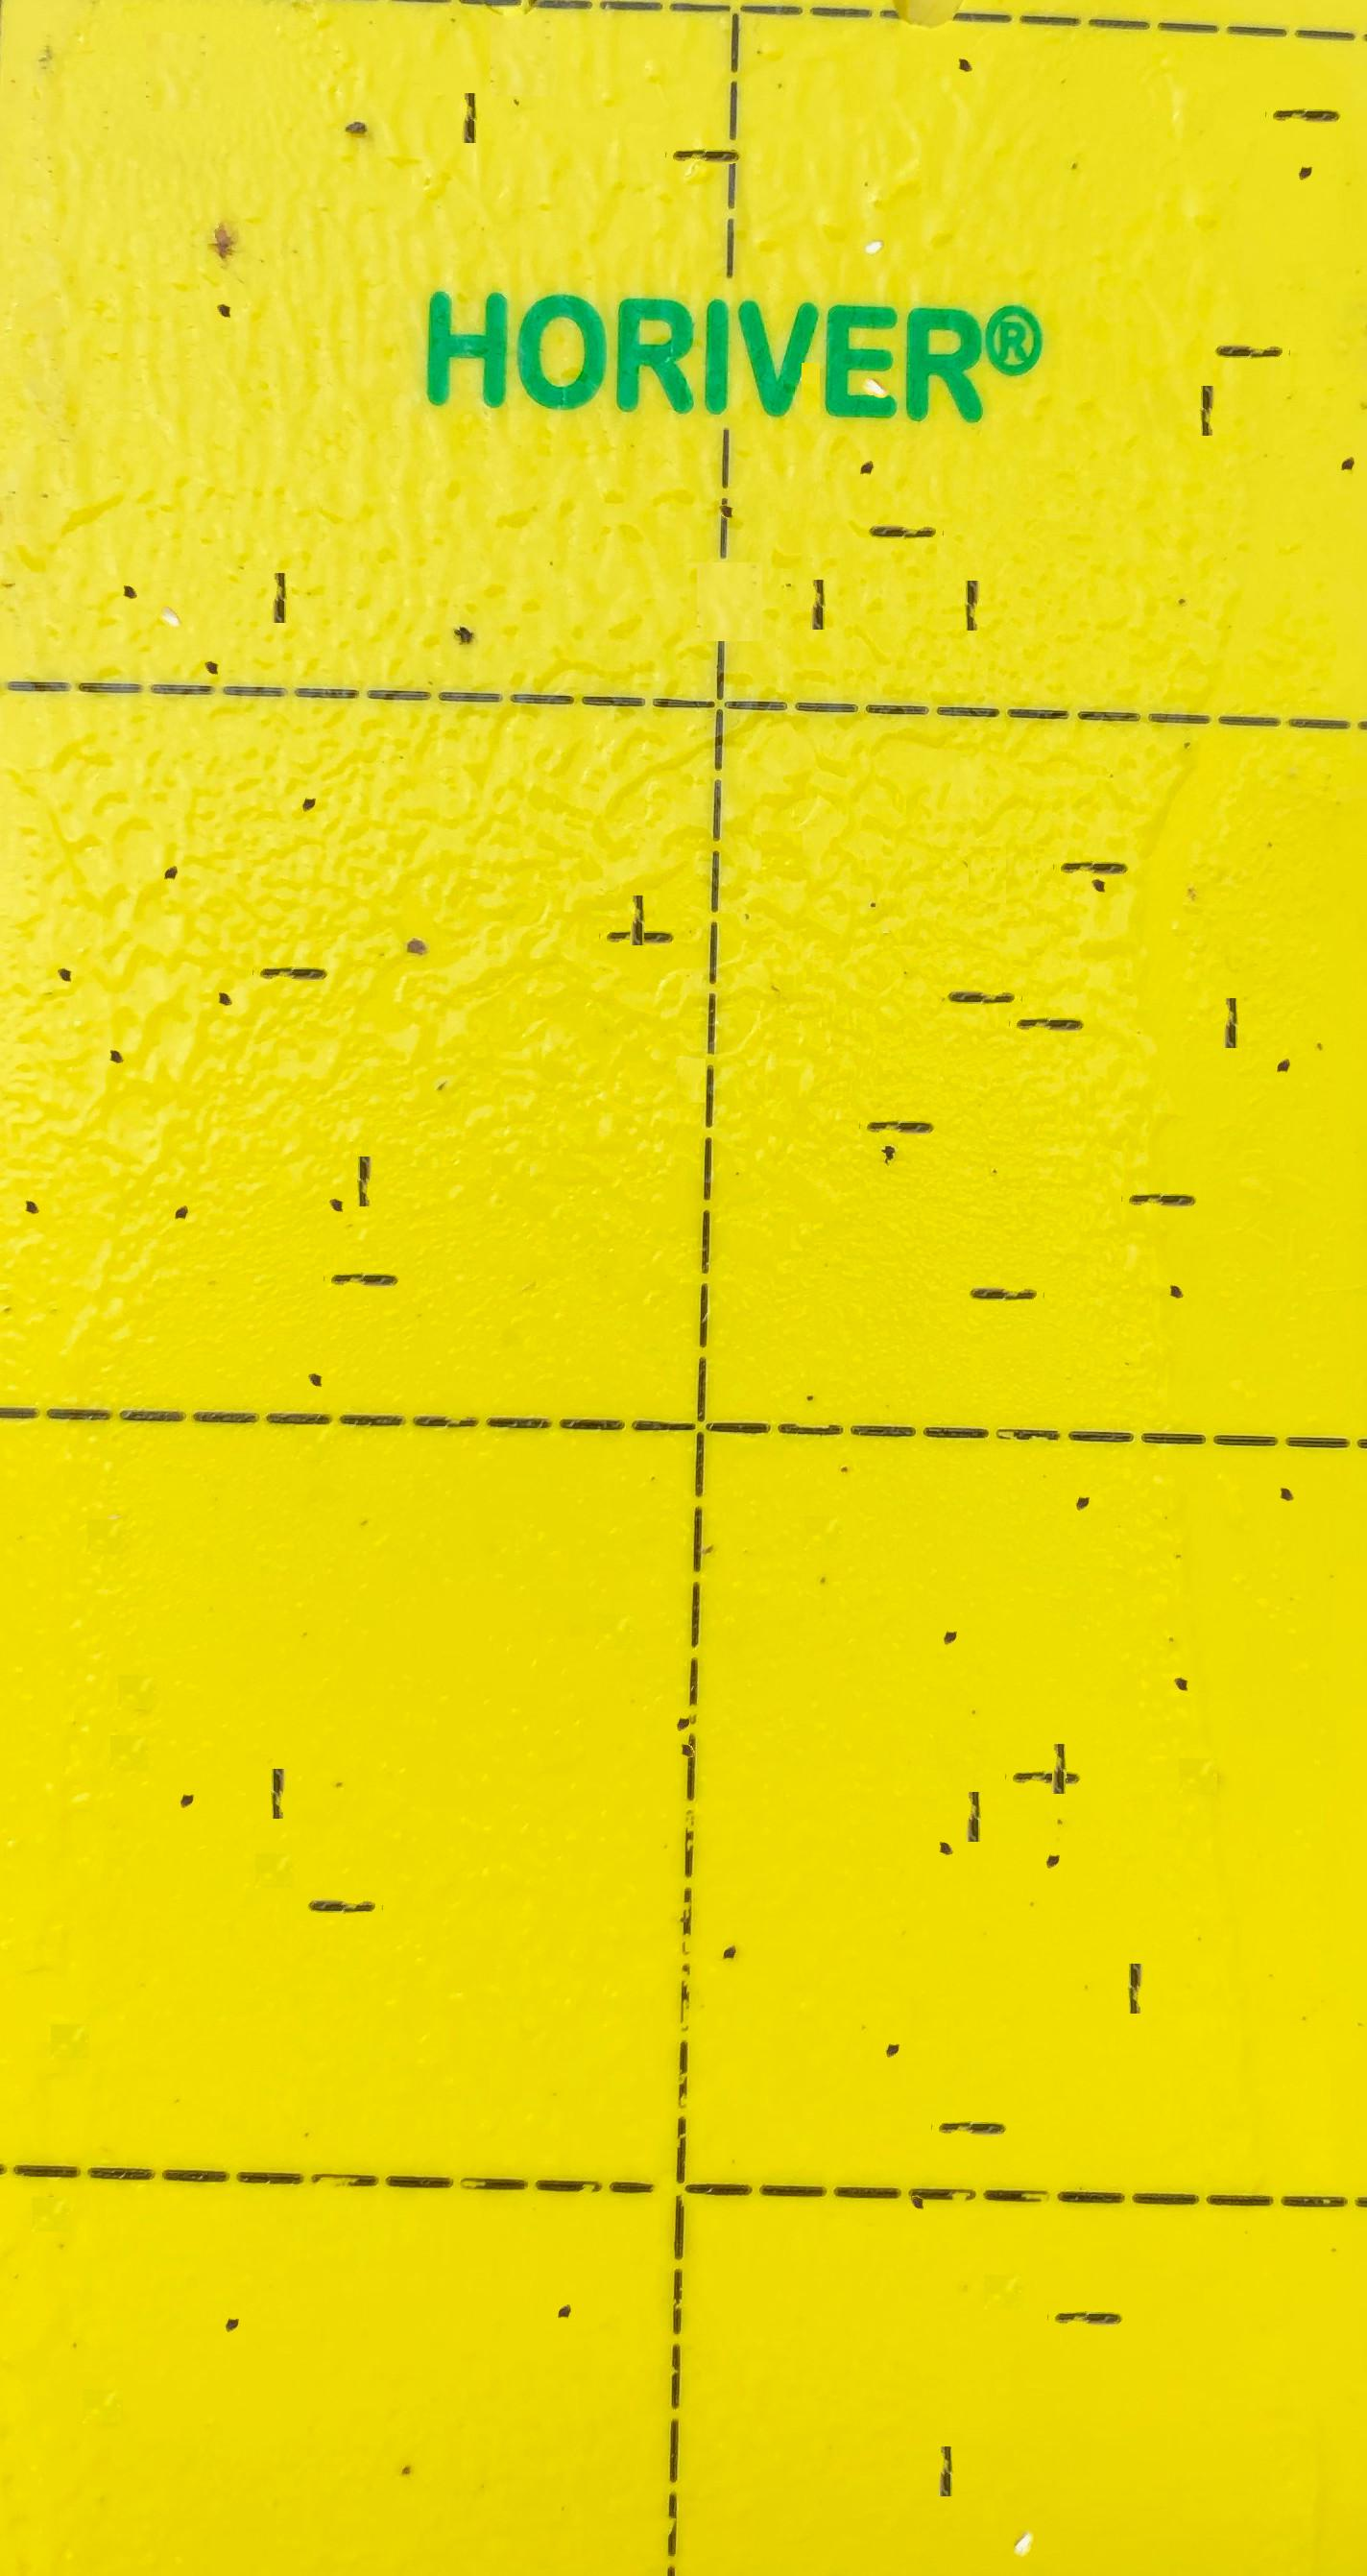white_fly: (1004, 2479, 1047, 2525), (852, 175, 893, 223), (148, 552, 191, 595), (852, 322, 893, 366)
